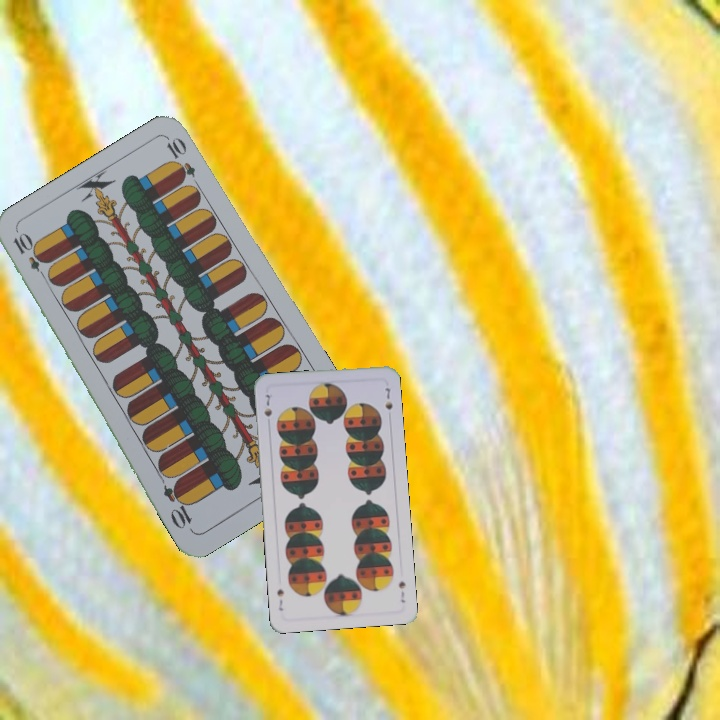E10: (9, 229, 52, 283)
S7: (260, 390, 274, 419), (394, 577, 408, 605)
